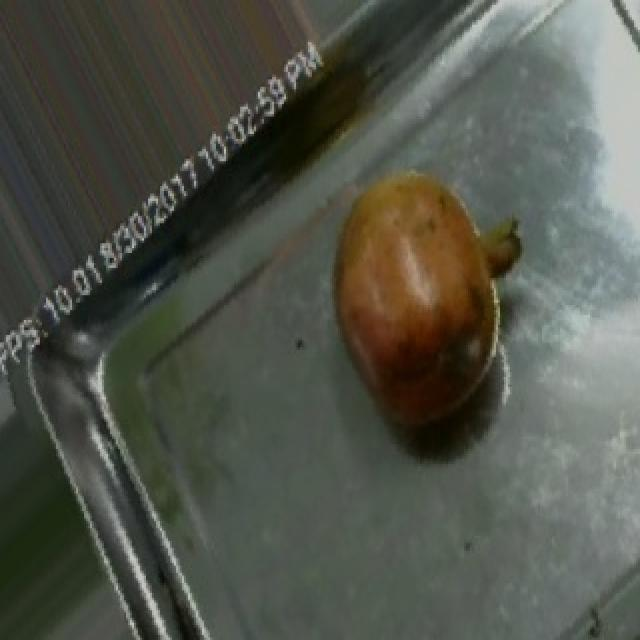fruit: (296, 139, 536, 446)
